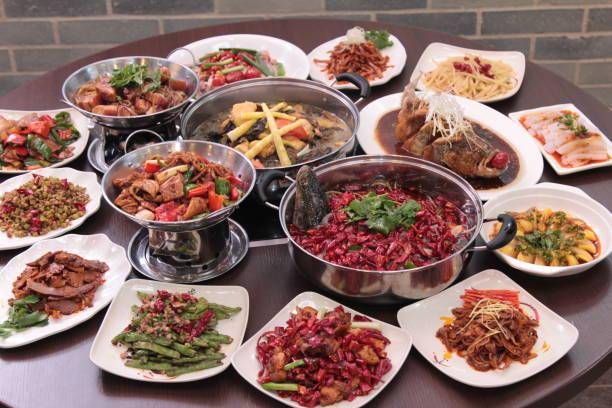Braised Crucian Carp: (280, 156, 480, 289), (99, 141, 261, 288), (398, 268, 580, 387), (230, 291, 412, 405), (178, 78, 361, 190), (356, 95, 540, 185), (89, 279, 248, 383), (0, 232, 126, 345), (480, 183, 612, 278), (61, 55, 199, 129), (508, 99, 612, 185), (0, 166, 104, 250), (169, 33, 307, 93), (405, 41, 526, 104), (1, 106, 93, 174), (306, 30, 408, 91)
